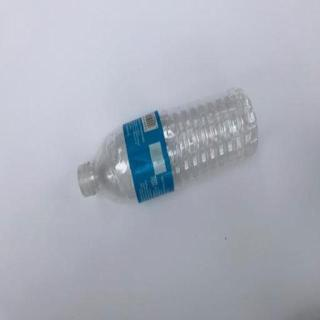Plastic-bottle: (78, 87, 260, 206)
